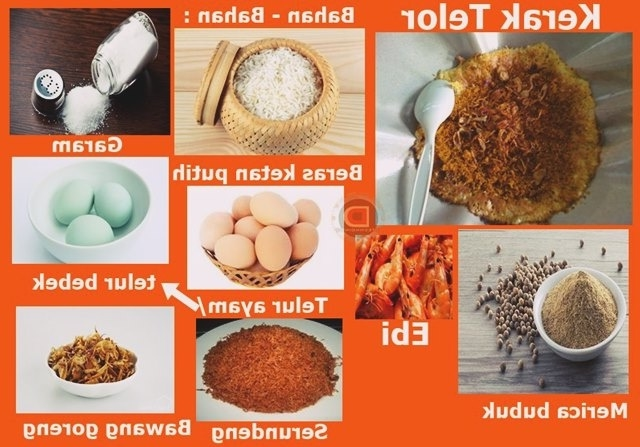kerak_telor: (457, 44, 598, 224)
